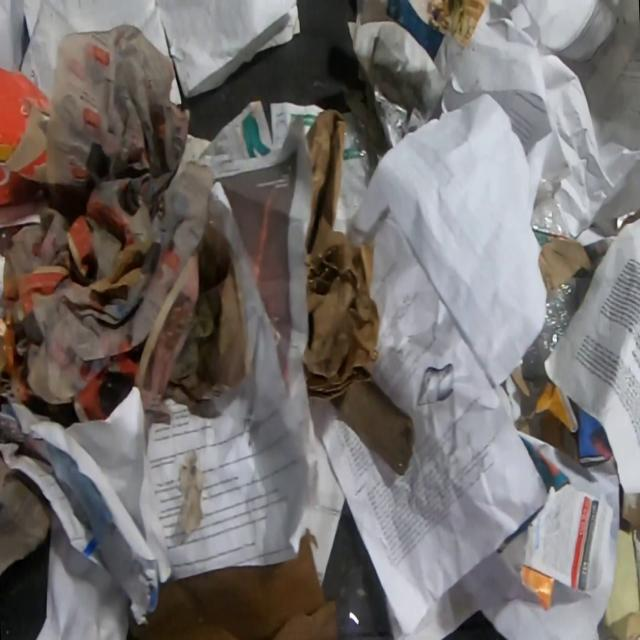cardboard: (127, 527, 338, 640), (0, 64, 52, 231), (334, 381, 415, 477), (0, 448, 54, 577), (514, 382, 580, 464), (538, 236, 594, 301), (620, 488, 640, 544), (510, 361, 532, 398)
rigid_plastic: (338, 566, 364, 640)
soft_plastic: (206, 205, 286, 433), (520, 273, 592, 383), (335, 113, 377, 220), (530, 175, 576, 240), (614, 205, 640, 233)
